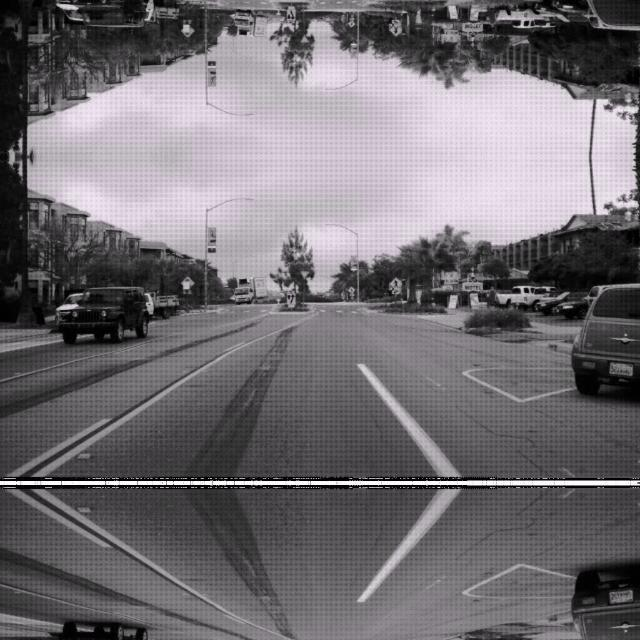pedestrianCrossing: (388, 275, 402, 289), (388, 23, 402, 37)
yield: (299, 268, 309, 278), (299, 34, 309, 44)
